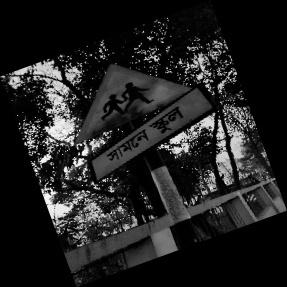School-in-front: (78, 65, 215, 182)
